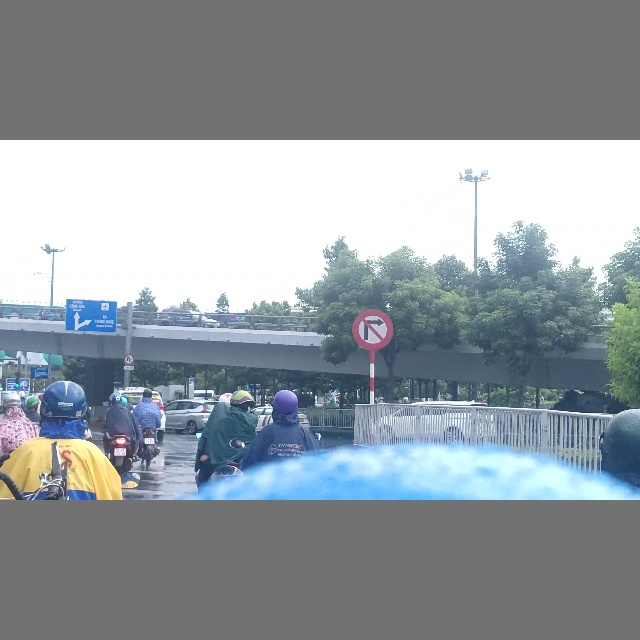P.123b: (352, 308, 393, 350)
